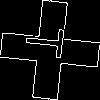T: (25, 25, 74, 60)
